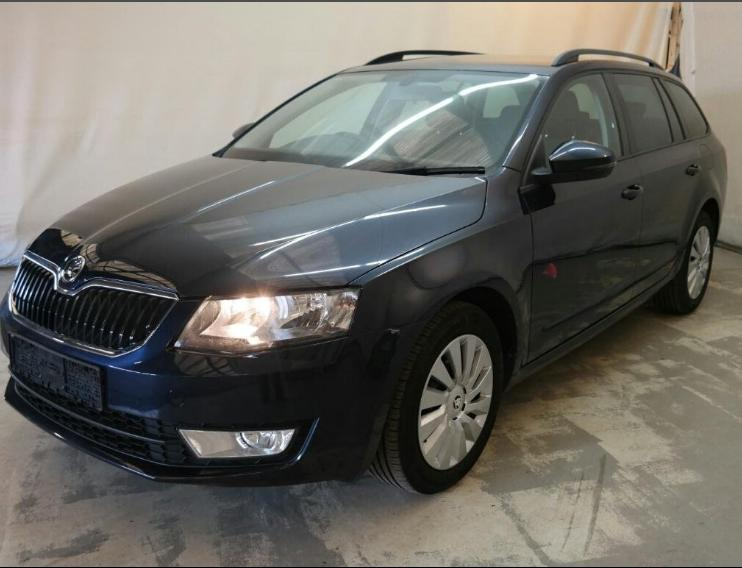Paint chip: (387, 328, 401, 336)
